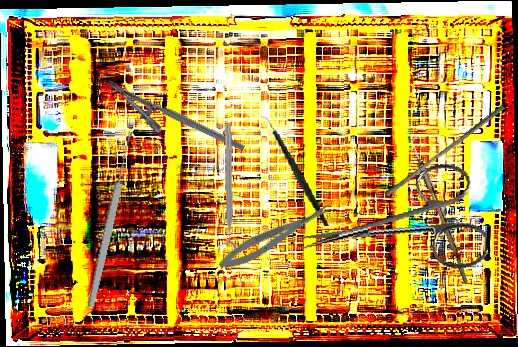Chopper: (257, 108, 330, 234)
Fixation Ring: (213, 124, 238, 258)
Iris Scissors: (292, 158, 491, 298)
Micro Scissor: (214, 198, 338, 276)
Needle Holder: (97, 78, 246, 171)
Pusher: (384, 99, 506, 202)
Surgical Spoon: (398, 117, 473, 285), (85, 130, 137, 309)
